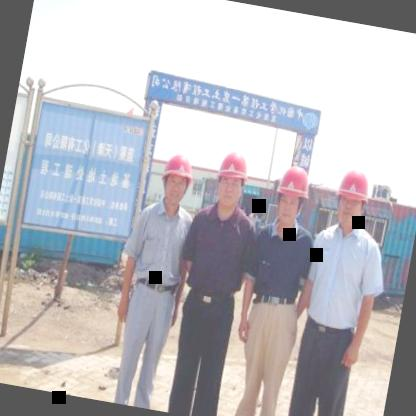helmet: (328, 162, 375, 233), (268, 162, 314, 233), (209, 144, 254, 214), (155, 146, 197, 213)
